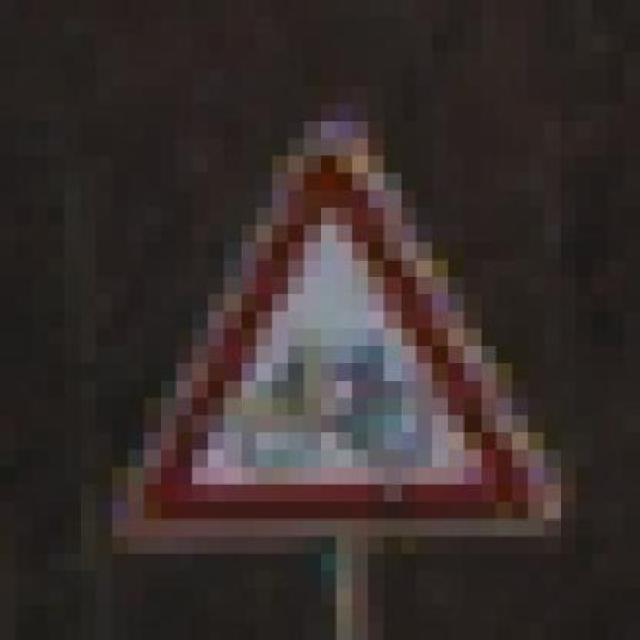CYCLE ROUTE AHEAD WARNING: (64, 69, 576, 554)
